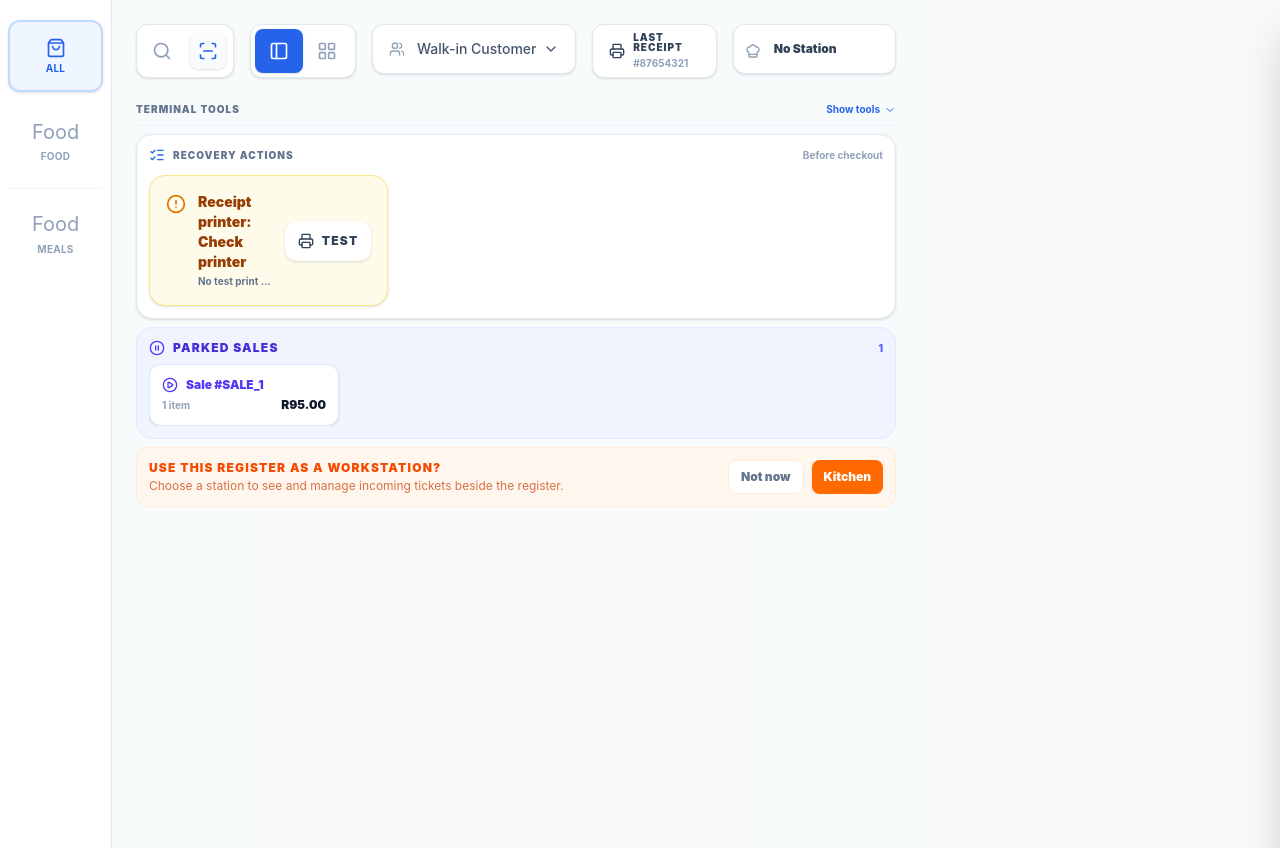
Test case: PointOfSaleView daily action strip › summarizes the register daily actions on the first POS screen
Step 1. Click the button "Show tools" → x=861, y=110, box 826,102 -> 896,117
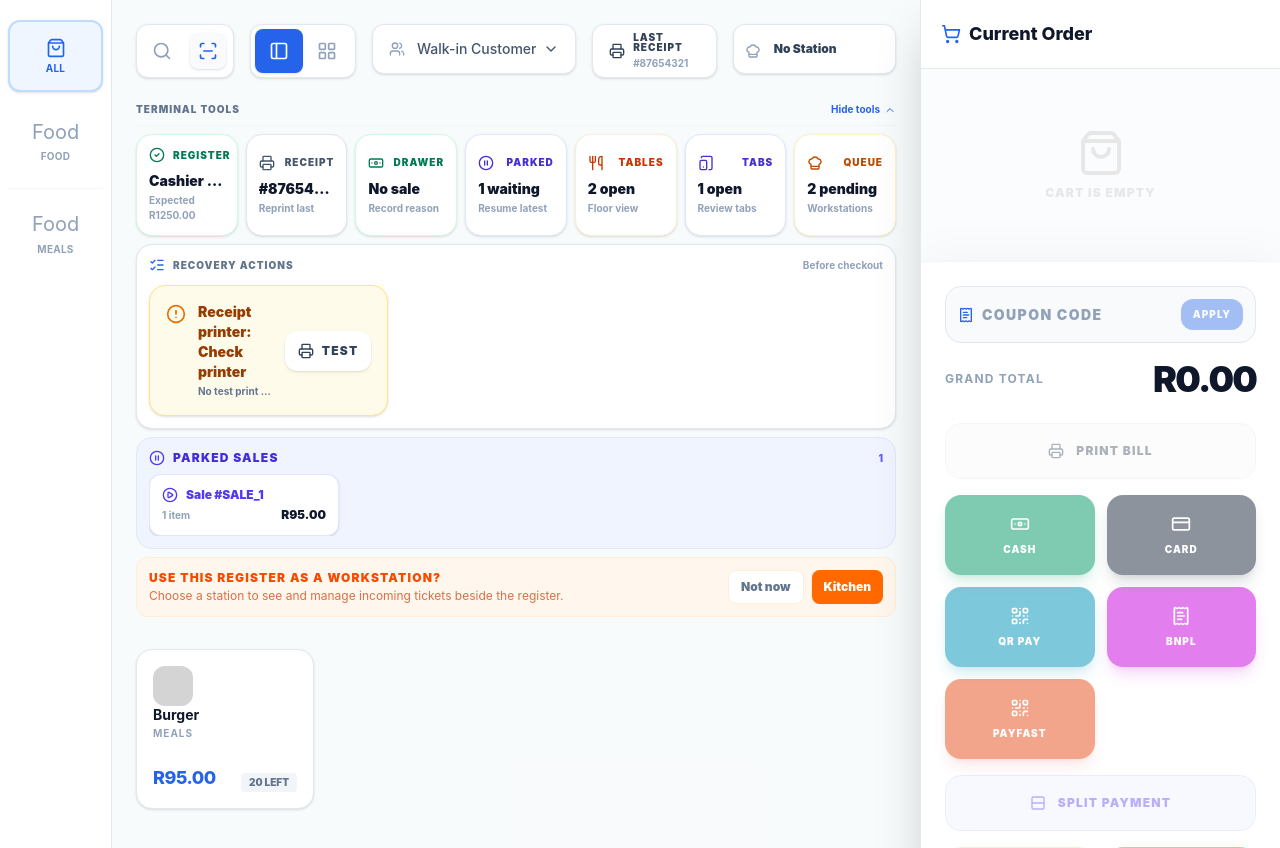
Now the button "Register Cashier One Expected R1250.00" is shown, box 136,134 -> 238,236
Now the button "Receipt #87654321 Reprint last" is shown, box 246,134 -> 347,236
Now the button "Drawer No sale Record reason" is shown, box 355,134 -> 457,236
